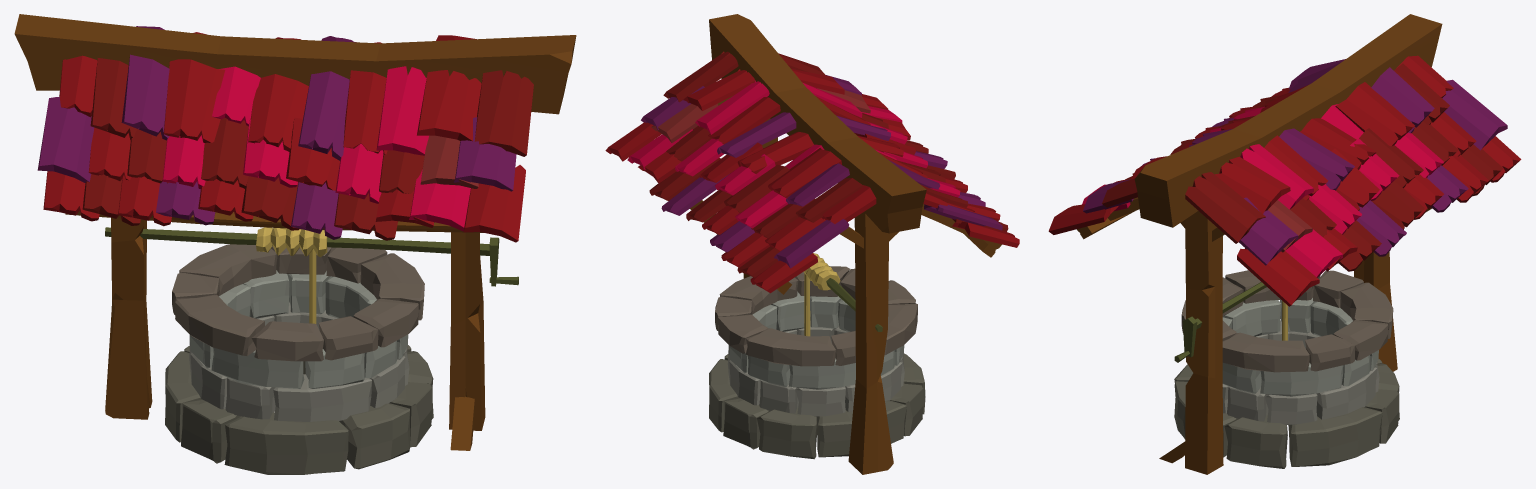
The model's file is well_tekture.gltf.
3 renders of one model, left to right at view 1: azimuth 30°, elevation 25°; view 2: azimuth 150°, elevation 25°; view 3: azimuth 270°, elevation 25°, orthographic. The views are drawn at different scales.
Parts seen in each view (by area): view 1: wXZrHISOlxIIRjpe; view 2: wXZrHISOlxIIRjpe; view 3: wXZrHISOlxIIRjpe.
Part boxes in pixels (box(x1,y1,x2,y2)): wXZrHISOlxIIRjpe: box(14, 14, 576, 474); wXZrHISOlxIIRjpe: box(605, 14, 1019, 474); wXZrHISOlxIIRjpe: box(1048, 14, 1521, 474).
Bounding box in the file's own units: 2.48 × 1.79 × 2.36.
